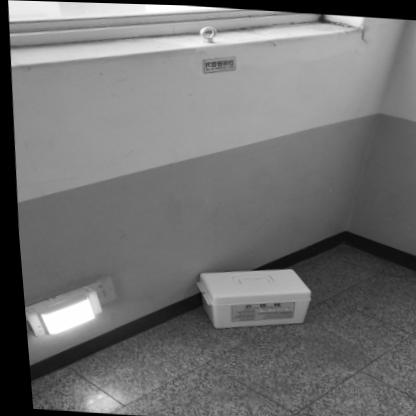DDL: (187, 260, 310, 333)
